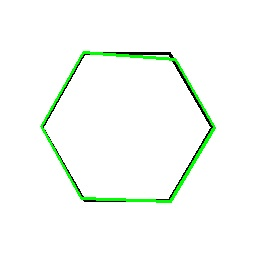line_segment: (41, 51, 215, 202)
